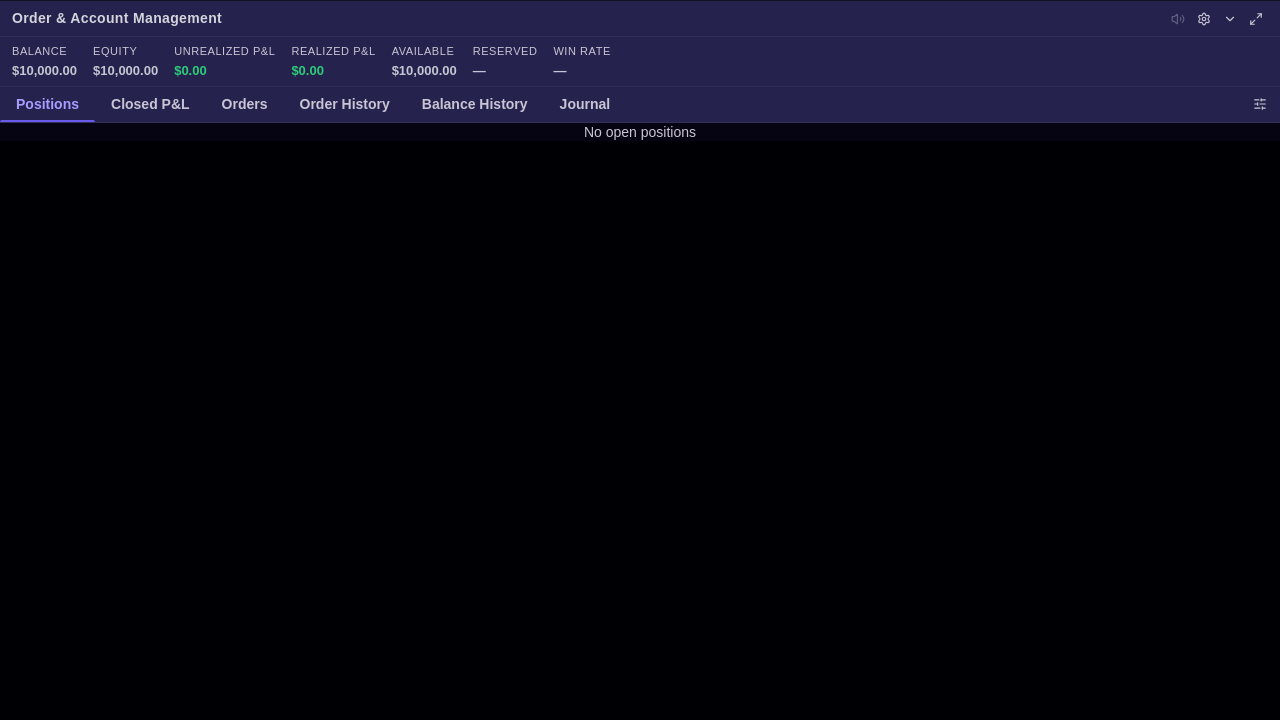
Test: Section 8 — Account Settings modal › [8.1] should open the modal titled "Account Settings" when the gear is clicked
The width and height of the screenshot is (1280, 720).
What coordinates should you click on to do the following:
click the button named "Account settings"
I would click on:
 (1204, 18)
Its box is [1192,6,1216,30].
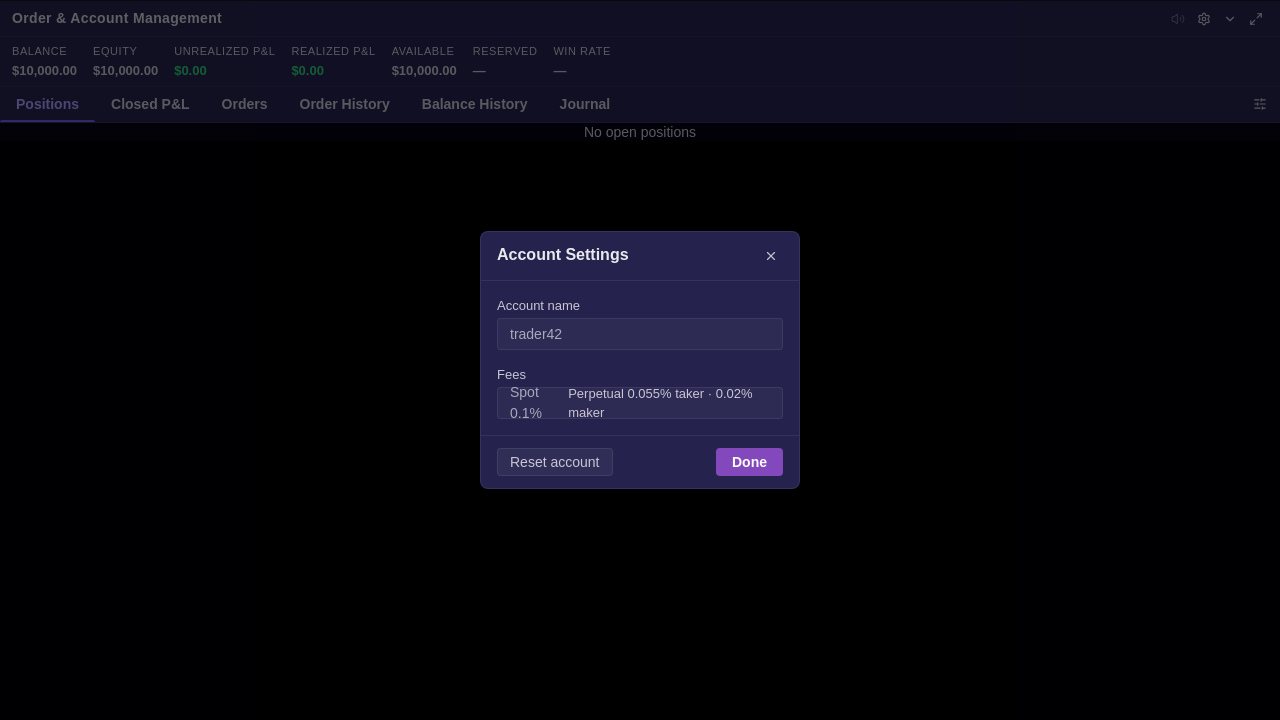
Check: the text "Account Settings" is shown, box [497,244,629,267]
